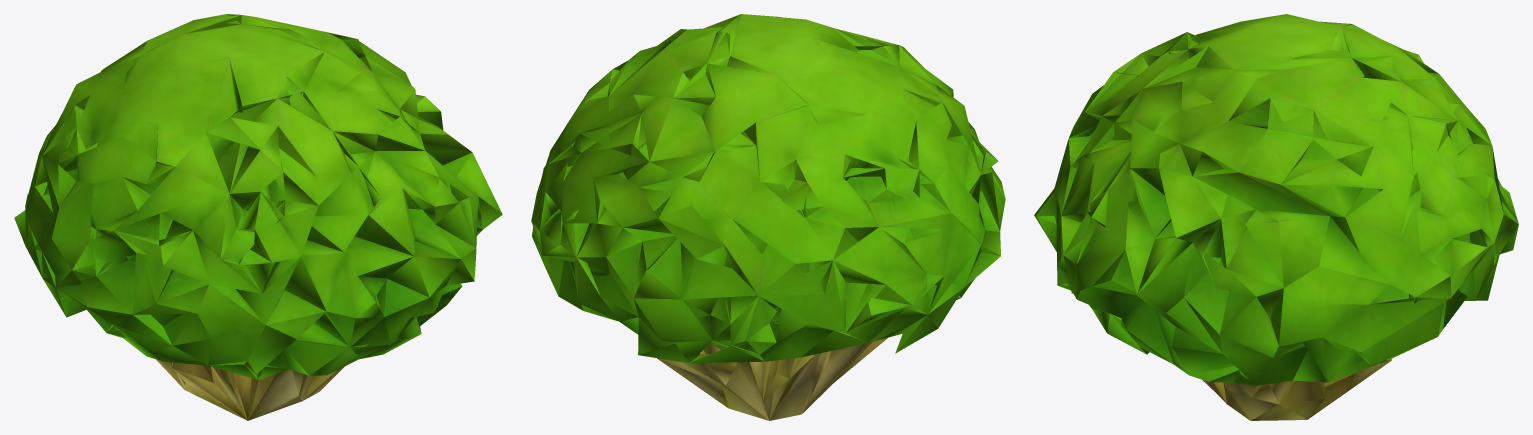
File: leafy_bush.glb
The picture shows the model from 3 angles, left to right: view 1: azimuth 30°, elevation 25°; view 2: azimuth 150°, elevation 25°; view 3: azimuth 270°, elevation 25°; orthographic projection.
Parts seen in each view (by area): view 1: model; view 2: model; view 3: model.
Part boxes in pixels (x1=…): model: x1=14, y1=14, x2=502, y2=420; model: x1=531, y1=14, x2=1005, y2=420; model: x1=1034, y1=14, x2=1518, y2=420.
Bounding box in the file's own units: 1.78 × 1.51 × 1.81.
Materials: 1 (1 with a texture image).
